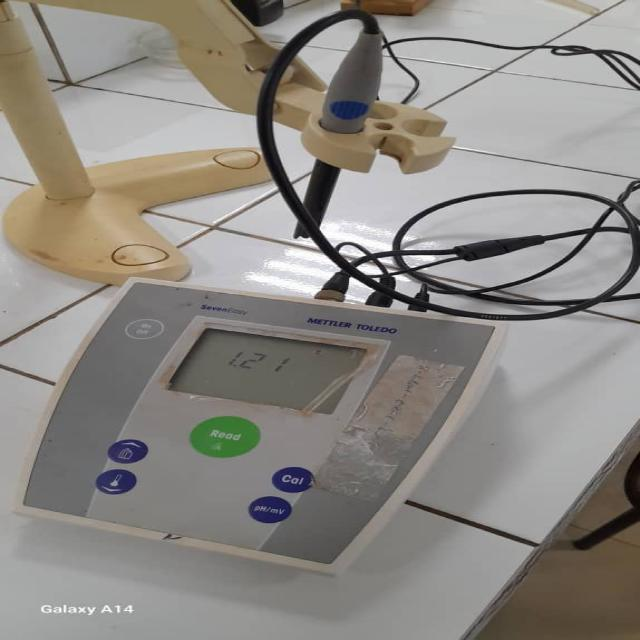PH meter: (13, 278, 495, 586)
